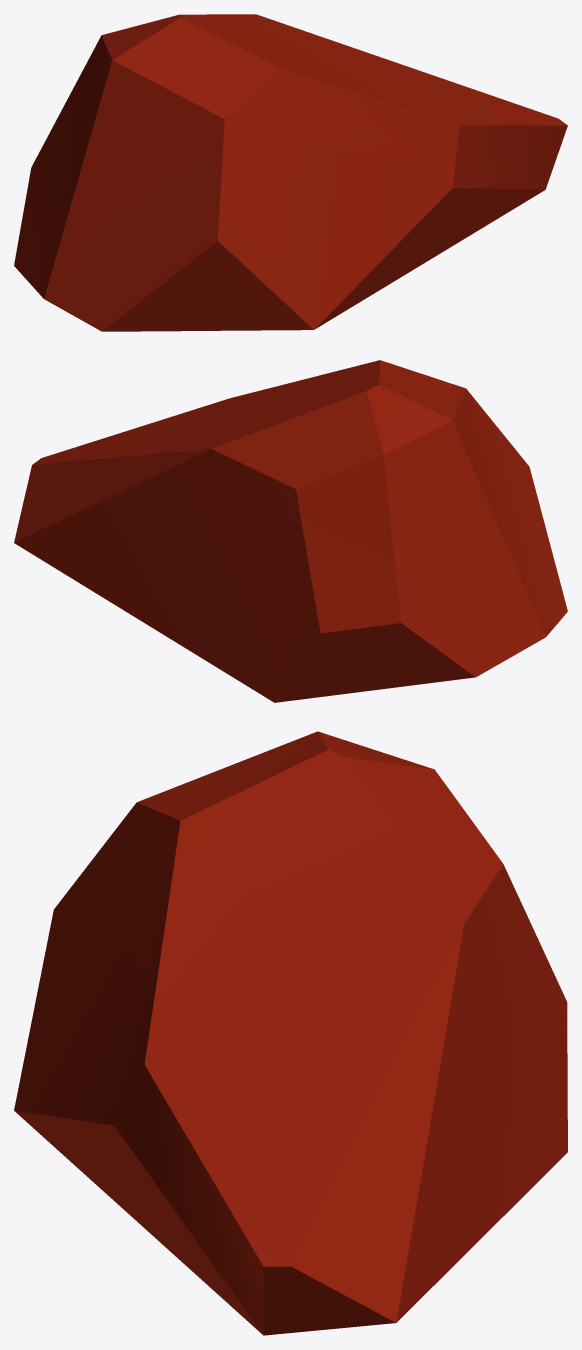
File: SM_Small_Rock_04.fbx
3 renders of one model, top to bottom at view 1: azimuth 30°, elevation 25°; view 2: azimuth 150°, elevation 25°; view 3: azimuth 270°, elevation 25°, orthographic. The views are drawn at different scales.
Parts seen in each view (by area): view 1: SM_Small_Rock_04; view 2: SM_Small_Rock_04; view 3: SM_Small_Rock_04.
Part boxes in pixels (x1=…): SM_Small_Rock_04: x1=14, y1=14, x2=567, y2=331; SM_Small_Rock_04: x1=14, y1=360, x2=567, y2=702; SM_Small_Rock_04: x1=14, y1=731, x2=567, y2=1335.
Size of the model in its own units: 15.34 by 7.58 by 9.85.
